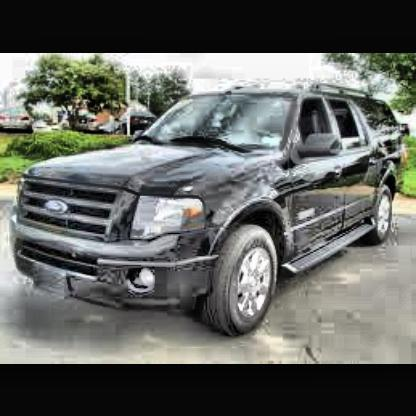Ford Expedition EL SUV 2009: (14, 77, 412, 338)
